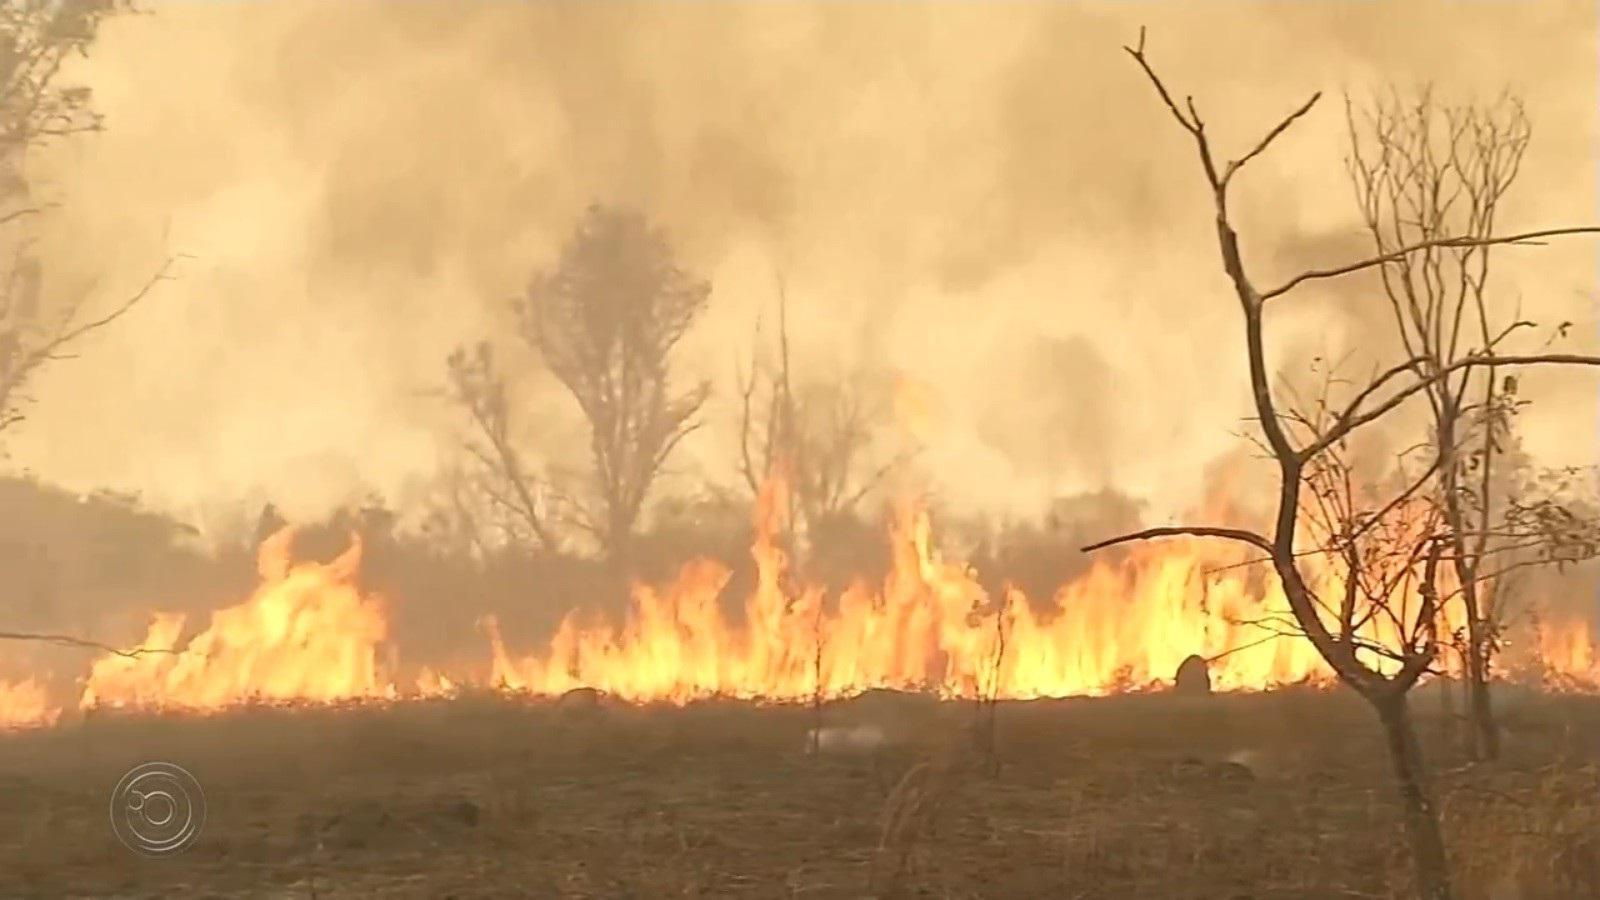Fire: (480, 496, 1498, 695), (116, 546, 447, 716), (1524, 602, 1593, 695)
